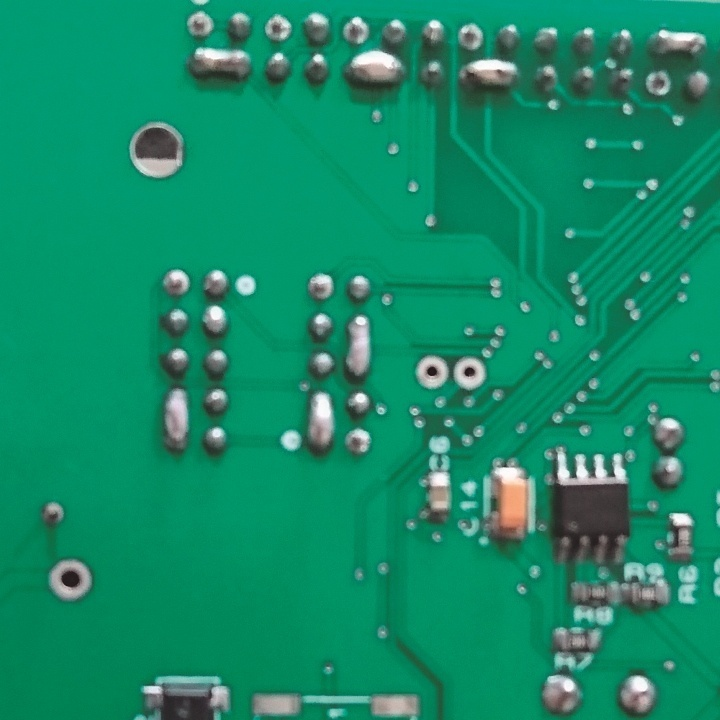F: (47, 556, 93, 605), (451, 352, 486, 390), (416, 354, 449, 392), (643, 66, 674, 99), (184, 8, 214, 41), (264, 13, 293, 47), (341, 15, 371, 46), (162, 269, 191, 298), (307, 272, 334, 303), (38, 501, 69, 527), (459, 22, 484, 54), (346, 429, 372, 455)
P: (187, 43, 252, 83), (344, 49, 407, 89), (461, 55, 518, 93), (649, 25, 707, 62), (345, 310, 375, 380), (161, 383, 190, 452), (305, 389, 335, 455)
